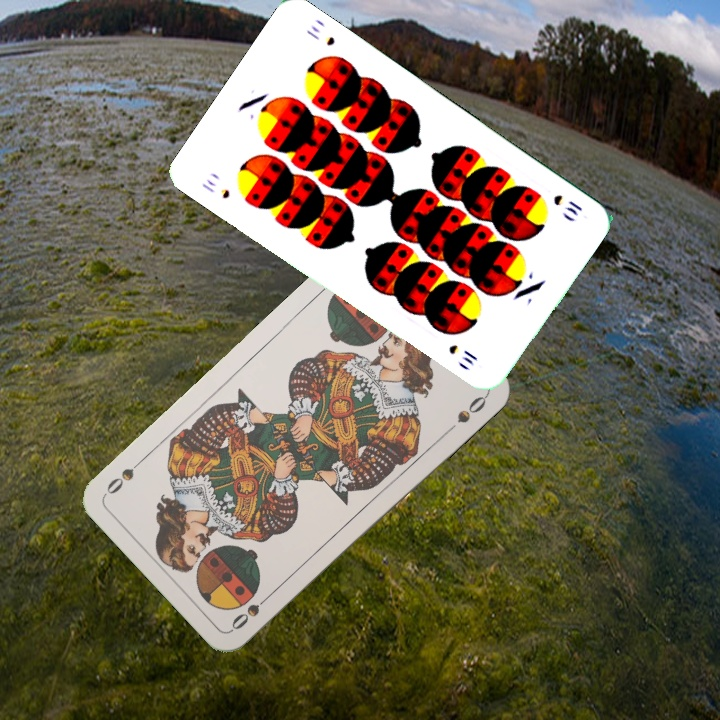S10: (549, 190, 586, 219), (197, 174, 233, 202)
SO: (227, 588, 276, 633)
